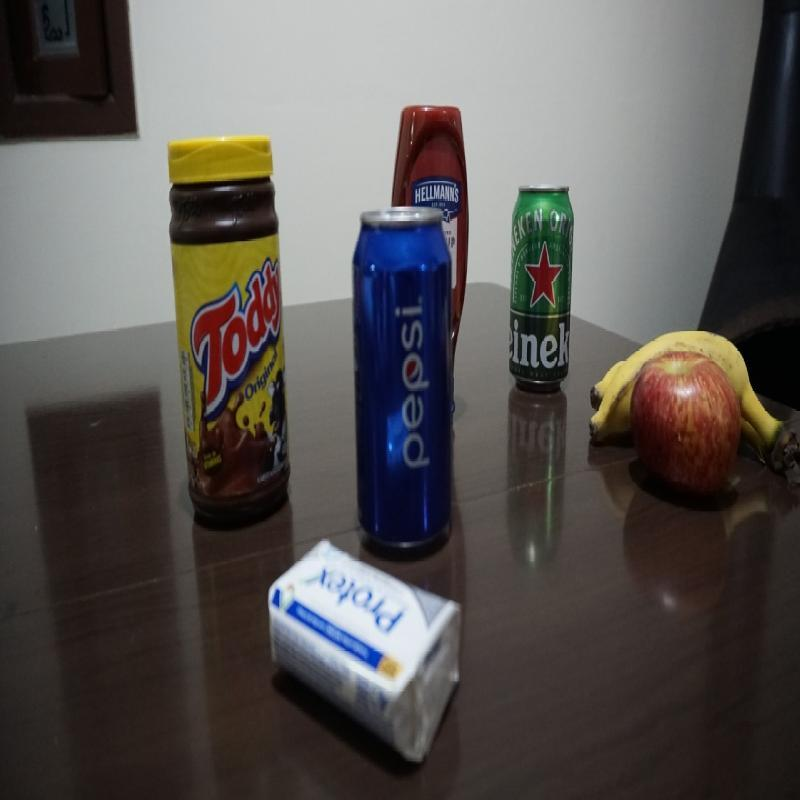Apple: (635, 356, 742, 488)
Beer can: (511, 183, 572, 393)
Chocolate Powder: (165, 135, 292, 505)
Ketchup: (391, 103, 469, 203)
Soap: (268, 538, 462, 764)
Soda can: (354, 211, 455, 529)
